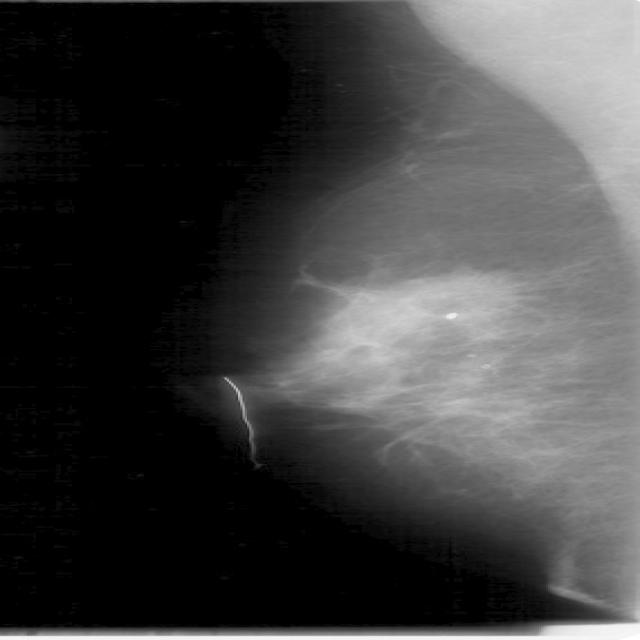tumour: (382, 271, 521, 323)
